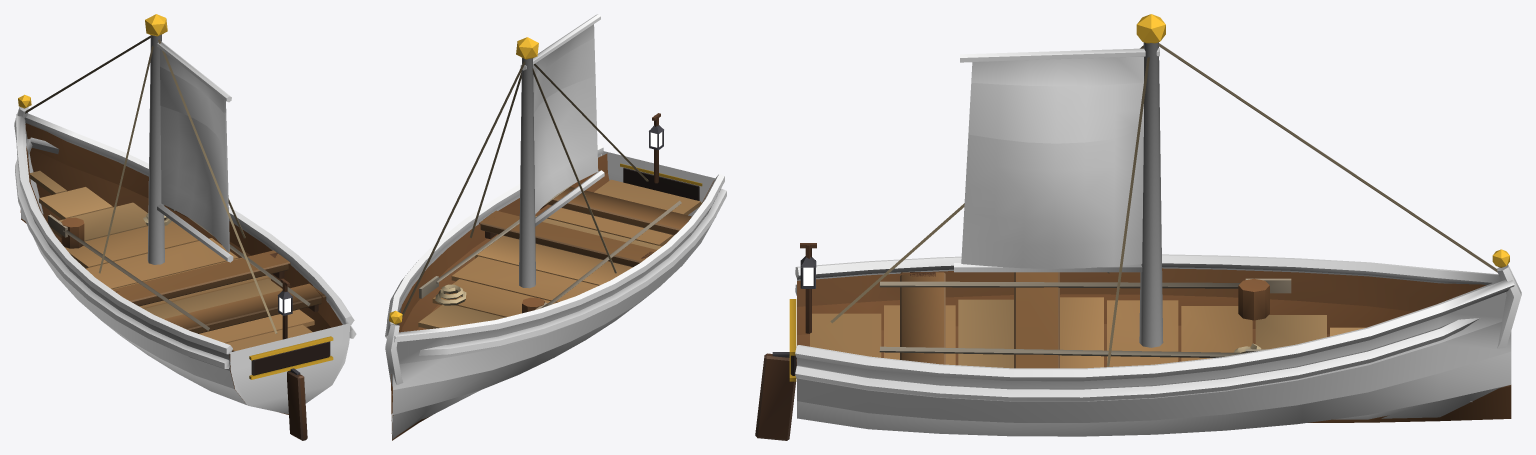
Rendered from SK_HeroSkiff.glb.
The picture shows the model from 3 angles, left to right: view 1: azimuth 30°, elevation 25°; view 2: azimuth 150°, elevation 25°; view 3: azimuth 270°, elevation 25°; orthographic projection. The views are drawn at different scales.
Visible parts, largest first — view 1: SK_HeroSkiff_3_Wood, SK_HeroSkiff_4_Wood, SK_HeroSkiff_7_SmoothPlastic, SK_HeroSkiff_1_SmoothPlastic, SK_HeroSkiff_2_SmoothPlastic, SK_HeroSkiff_6_Wood, SK_HeroSkiff_8_SmoothPlastic, SK_HeroSkiff_9_SmoothPlastic, SK_HeroSkiff_5_Metal; view 2: SK_HeroSkiff_3_Wood, SK_HeroSkiff_1_SmoothPlastic, SK_HeroSkiff_4_Wood, SK_HeroSkiff_7_SmoothPlastic, SK_HeroSkiff_2_SmoothPlastic, SK_HeroSkiff_6_Wood, SK_HeroSkiff_9_SmoothPlastic, SK_HeroSkiff_8_SmoothPlastic, SK_HeroSkiff_5_Metal; view 3: SK_HeroSkiff_3_Wood, SK_HeroSkiff_1_SmoothPlastic, SK_HeroSkiff_7_SmoothPlastic, SK_HeroSkiff_4_Wood, SK_HeroSkiff_8_SmoothPlastic, SK_HeroSkiff_2_SmoothPlastic, SK_HeroSkiff_6_Wood, SK_HeroSkiff_9_SmoothPlastic, SK_HeroSkiff_5_Metal.
Boxes of the visible parts, box(x1,y1,x2,y2) form: SK_HeroSkiff_3_Wood: box(20, 123, 342, 440); SK_HeroSkiff_4_Wood: box(14, 41, 354, 414); SK_HeroSkiff_7_SmoothPlastic: box(160, 49, 229, 252); SK_HeroSkiff_1_SmoothPlastic: box(20, 132, 345, 404); SK_HeroSkiff_2_SmoothPlastic: box(15, 137, 356, 368); SK_HeroSkiff_6_Wood: box(147, 34, 164, 264); SK_HeroSkiff_8_SmoothPlastic: box(160, 66, 227, 153); SK_HeroSkiff_9_SmoothPlastic: box(25, 35, 277, 333); SK_HeroSkiff_5_Metal: box(18, 14, 333, 379); SK_HeroSkiff_3_Wood: box(391, 113, 714, 440); SK_HeroSkiff_1_SmoothPlastic: box(391, 154, 711, 439); SK_HeroSkiff_4_Wood: box(385, 14, 724, 387); SK_HeroSkiff_7_SmoothPlastic: box(533, 24, 598, 214); SK_HeroSkiff_2_SmoothPlastic: box(385, 188, 726, 355); SK_HeroSkiff_6_Wood: box(519, 57, 535, 288); SK_HeroSkiff_9_SmoothPlastic: box(397, 61, 648, 324); SK_HeroSkiff_8_SmoothPlastic: box(533, 38, 595, 113); SK_HeroSkiff_5_Metal: box(389, 37, 702, 324); SK_HeroSkiff_3_Wood: box(755, 243, 1511, 440); SK_HeroSkiff_1_SmoothPlastic: box(797, 267, 1511, 436); SK_HeroSkiff_7_SmoothPlastic: box(961, 56, 1143, 268); SK_HeroSkiff_4_Wood: box(795, 48, 1521, 401); SK_HeroSkiff_8_SmoothPlastic: box(968, 82, 1143, 143); SK_HeroSkiff_2_SmoothPlastic: box(795, 284, 1479, 401); SK_HeroSkiff_6_Wood: box(1139, 42, 1163, 347); SK_HeroSkiff_9_SmoothPlastic: box(830, 43, 1497, 366); SK_HeroSkiff_5_Metal: box(772, 14, 1509, 381).
Bounding box in the file's own units: 10.12 × 16.45 × 26.82.
